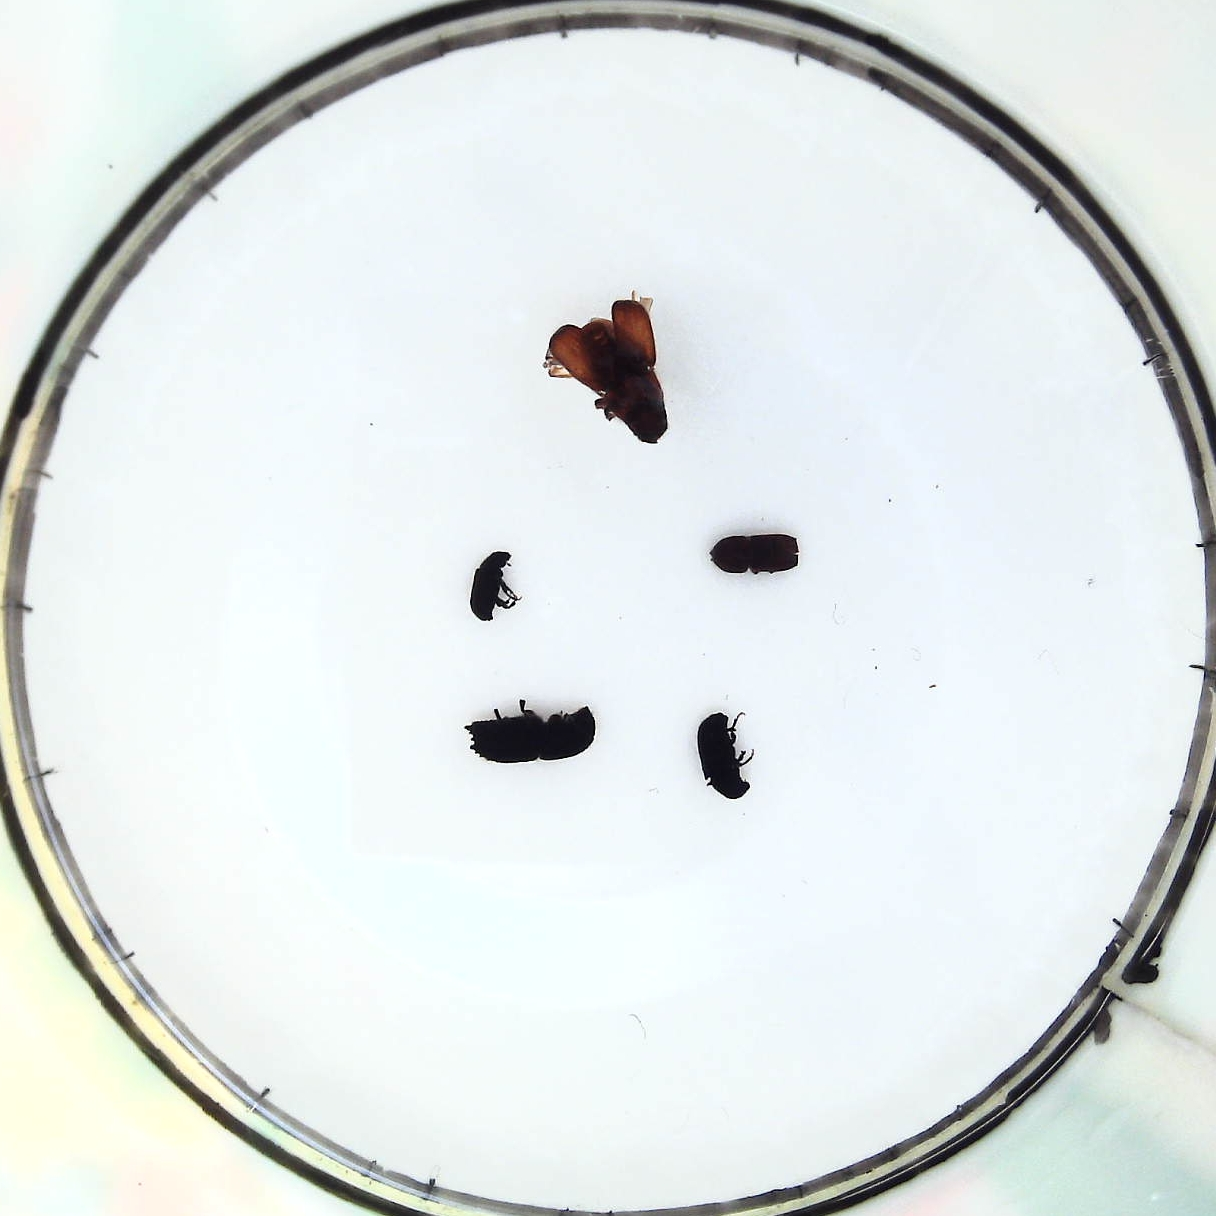Boerner: (470, 703, 596, 766)
Leconte: (545, 293, 667, 441)
Linnaeus: (708, 530, 803, 580)
armandi: (696, 709, 755, 802)
coleoptera: (472, 547, 514, 622)
